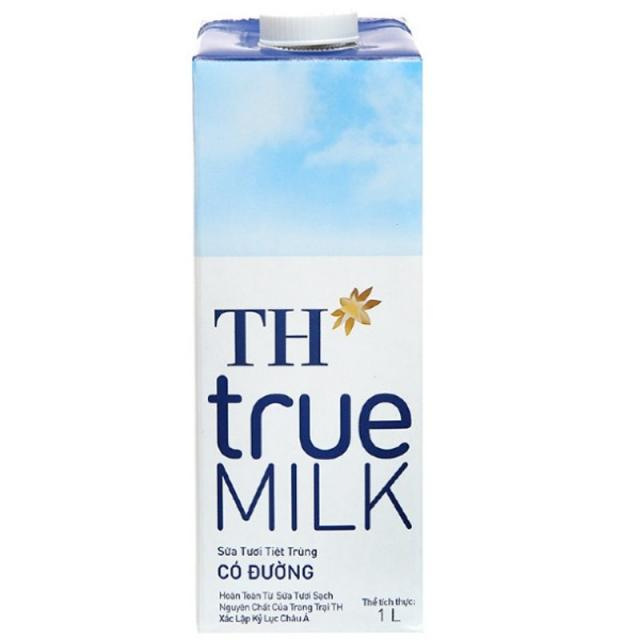non_white_jug: (178, 4, 441, 630)
